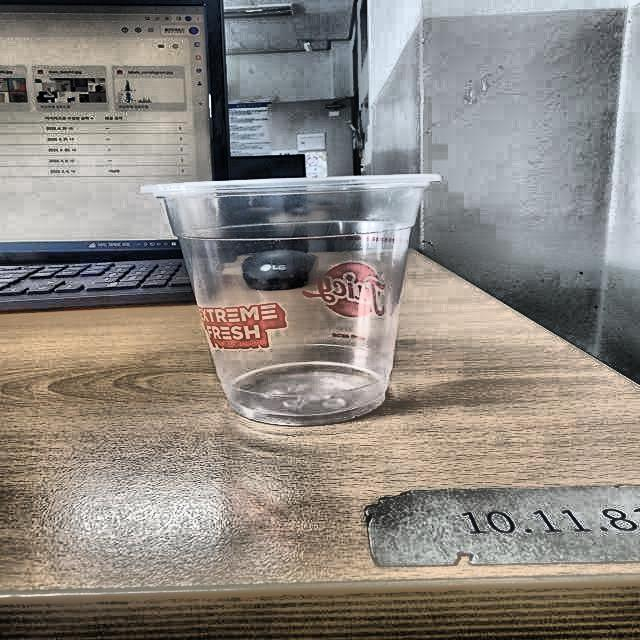plastic cup: (143, 172, 444, 426)
